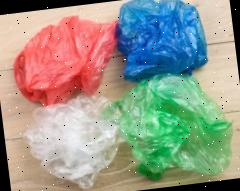plastic: (99, 64, 239, 187), (6, 8, 126, 109), (110, 0, 209, 83)
